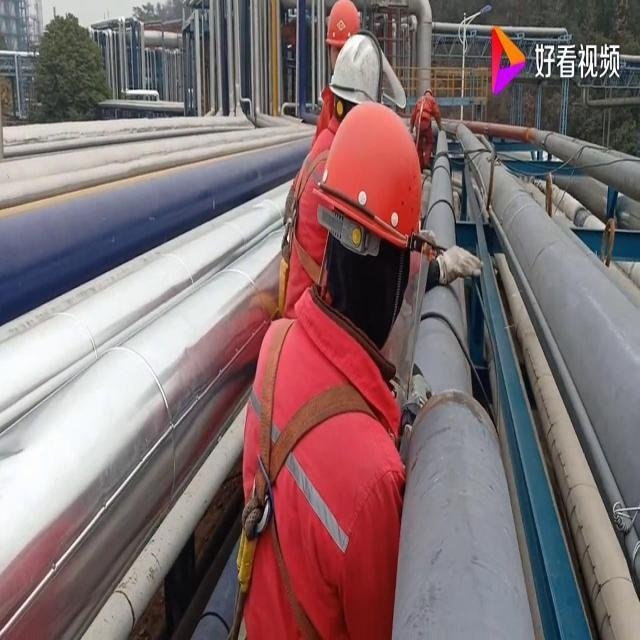Arnes_seguridad: (231, 311, 385, 639), (277, 127, 345, 302)
